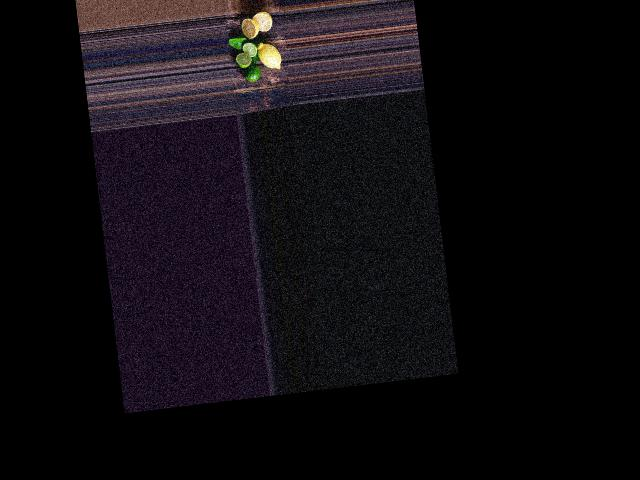lemon: (254, 39, 283, 73)
